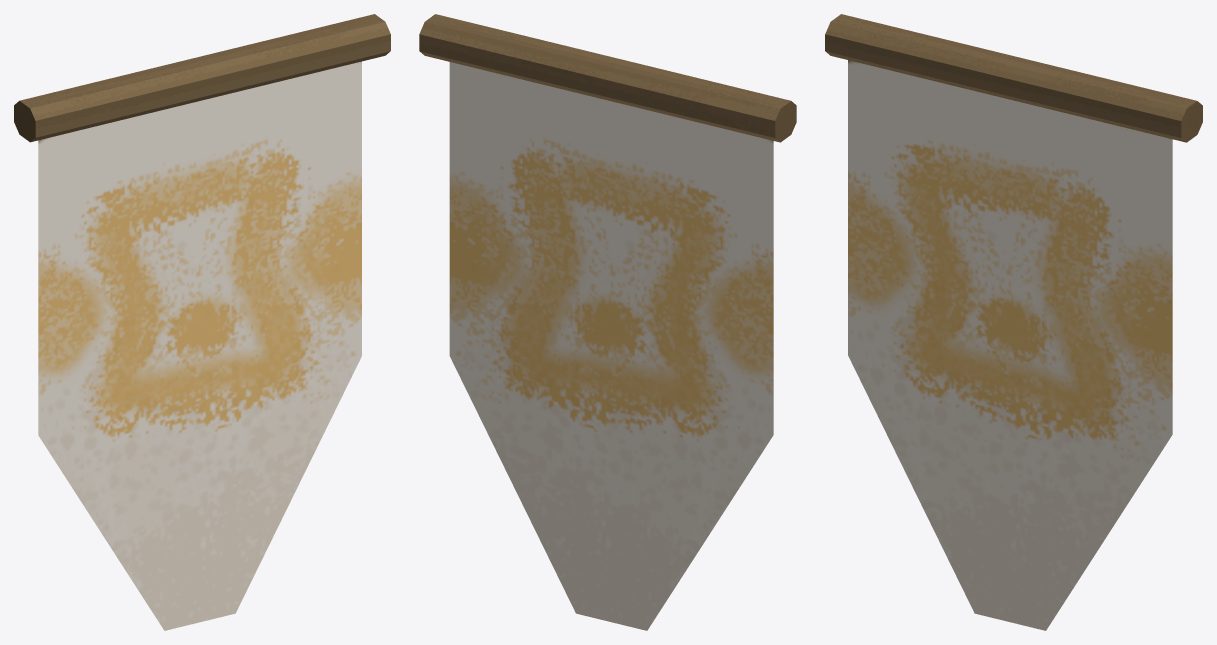
The model's file is SM_museumBanner.fbx.
The picture shows the model from 3 angles, left to right: view 1: azimuth 30°, elevation 25°; view 2: azimuth 150°, elevation 25°; view 3: azimuth 330°, elevation 25°; orthographic projection.
Parts seen in each view (by area): view 1: banner; view 2: banner; view 3: banner.
Boxes of the visible parts, x1,y1,x2,y2 form: banner: [14, 14, 390, 630]; banner: [419, 14, 796, 630]; banner: [825, 14, 1202, 630].
Bounding box in the file's own units: 11.28 × 16.98 × 1.18.
1 material, 1 textured.
